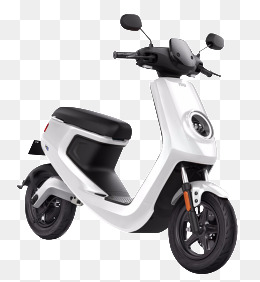MNV: (24, 15, 237, 274)
